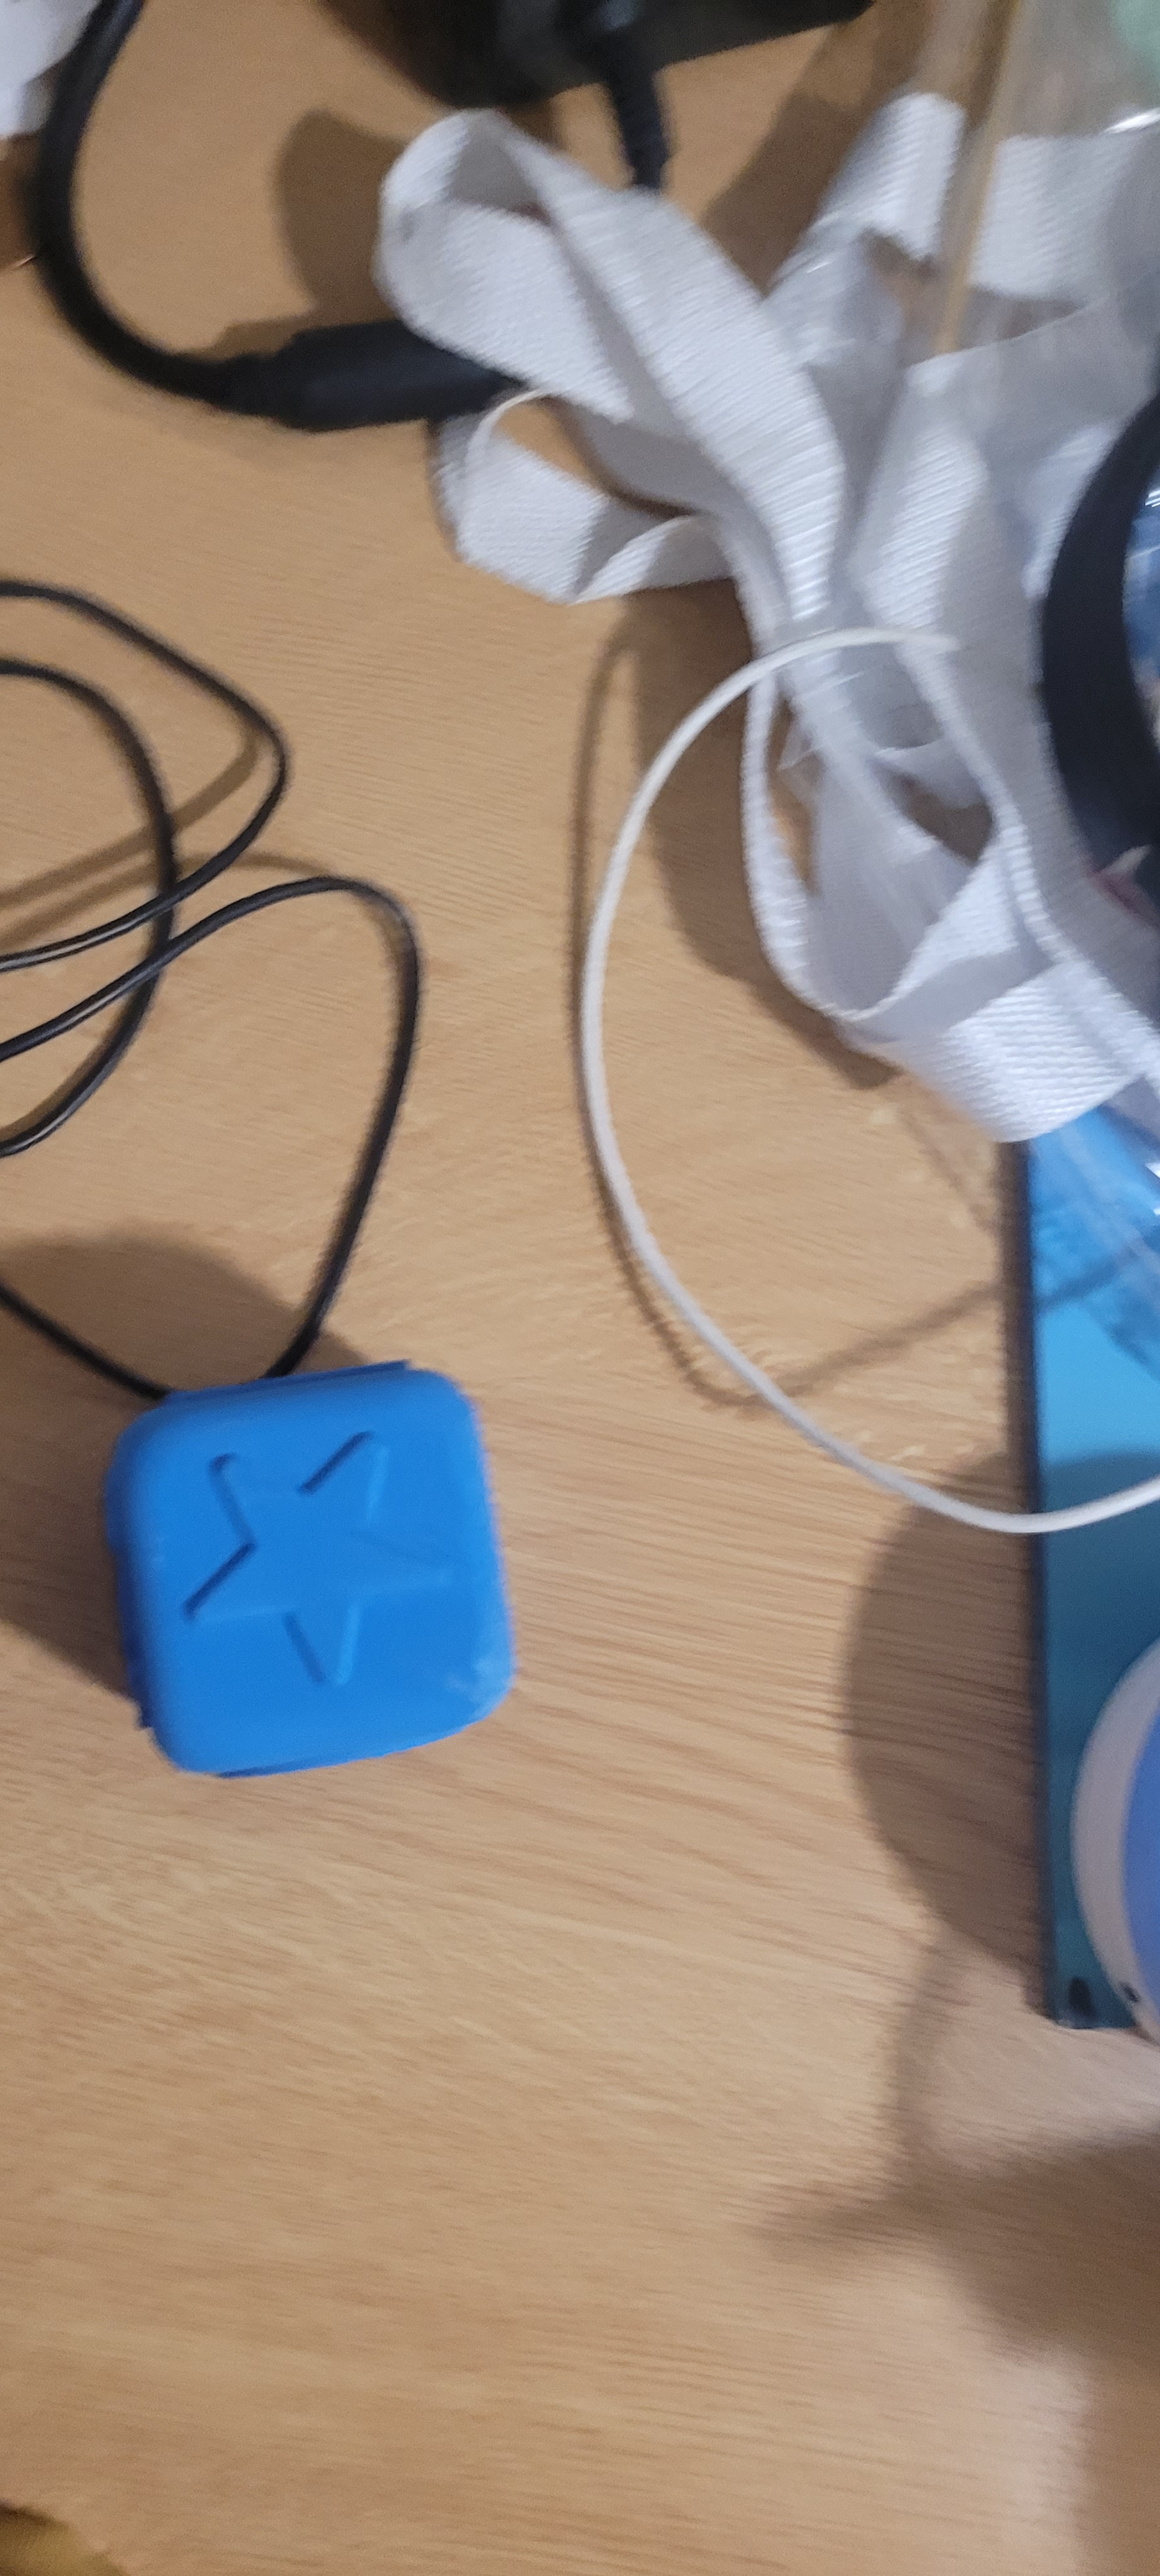Star: (151, 1411, 493, 1689)
